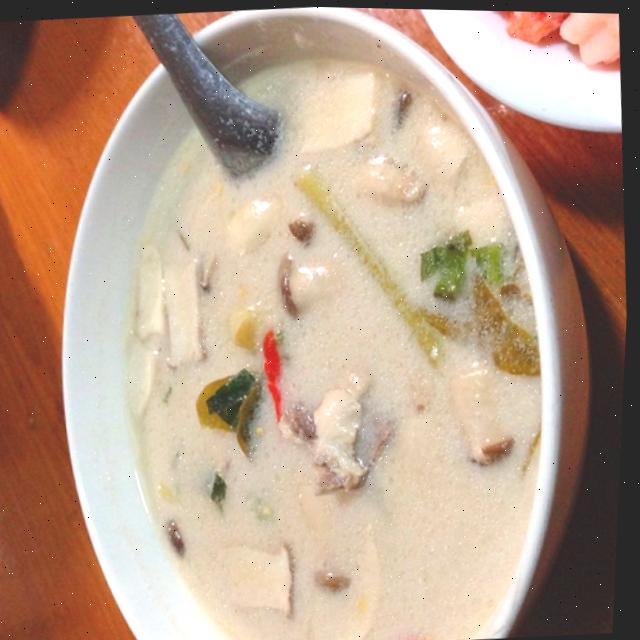汤锅炖物: (36, 3, 593, 640)
